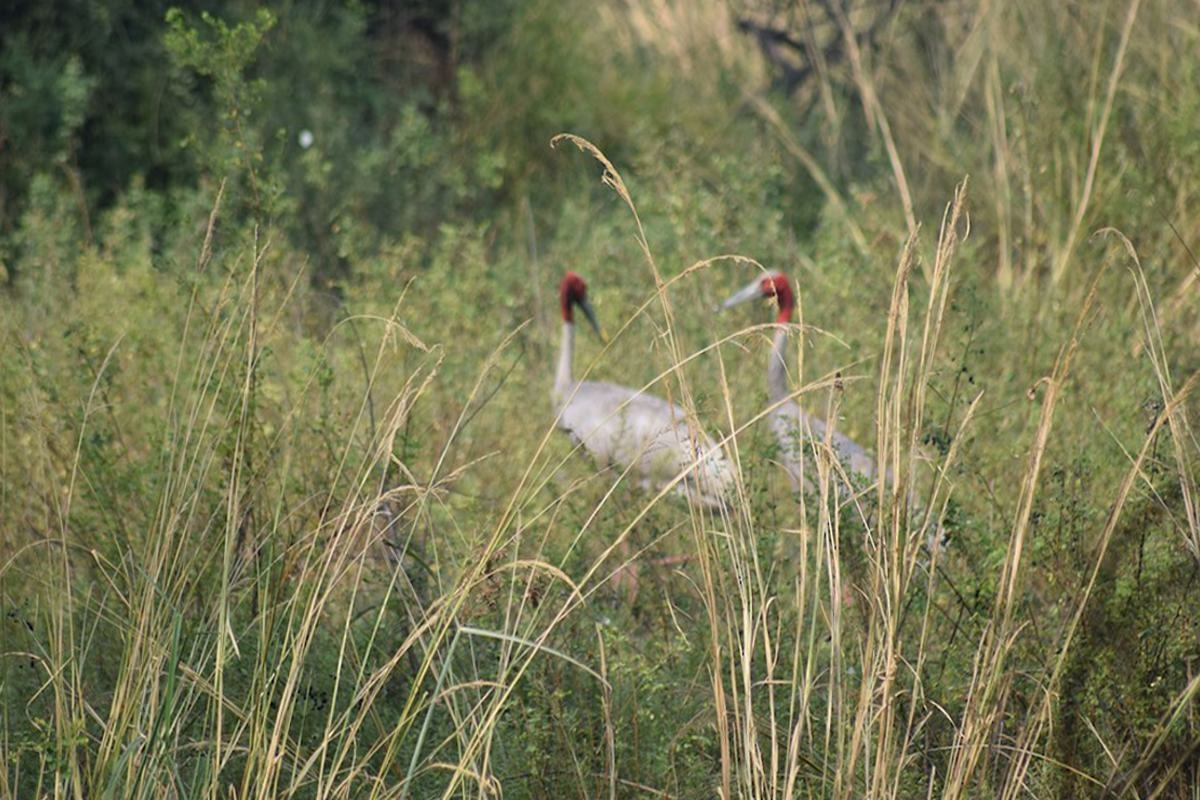crane: (733, 253, 947, 577), (529, 263, 730, 551)
